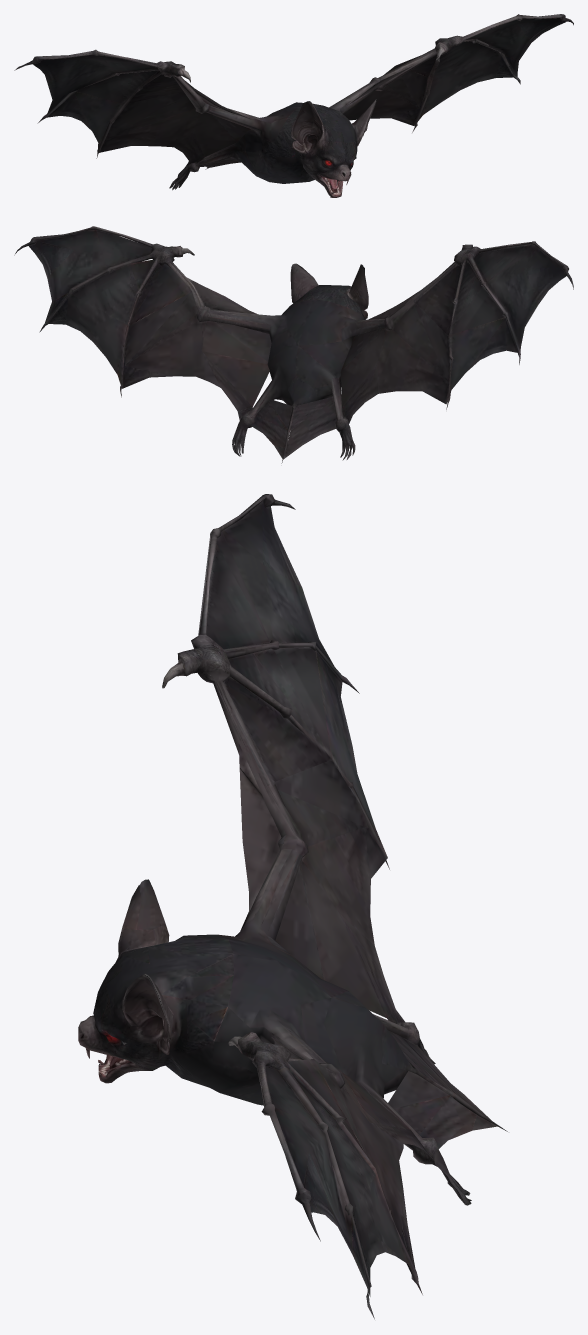
File: prop_pipistrello.glb
The picture shows the model from 3 angles, top to bottom: view 1: azimuth 30°, elevation 25°; view 2: azimuth 150°, elevation 25°; view 3: azimuth 270°, elevation 25°; orthographic projection. The views are drawn at different scales.
Bounding box in the file's own units: 0.9536 × 0.3706 × 0.3218.
1 material, 1 textured.
